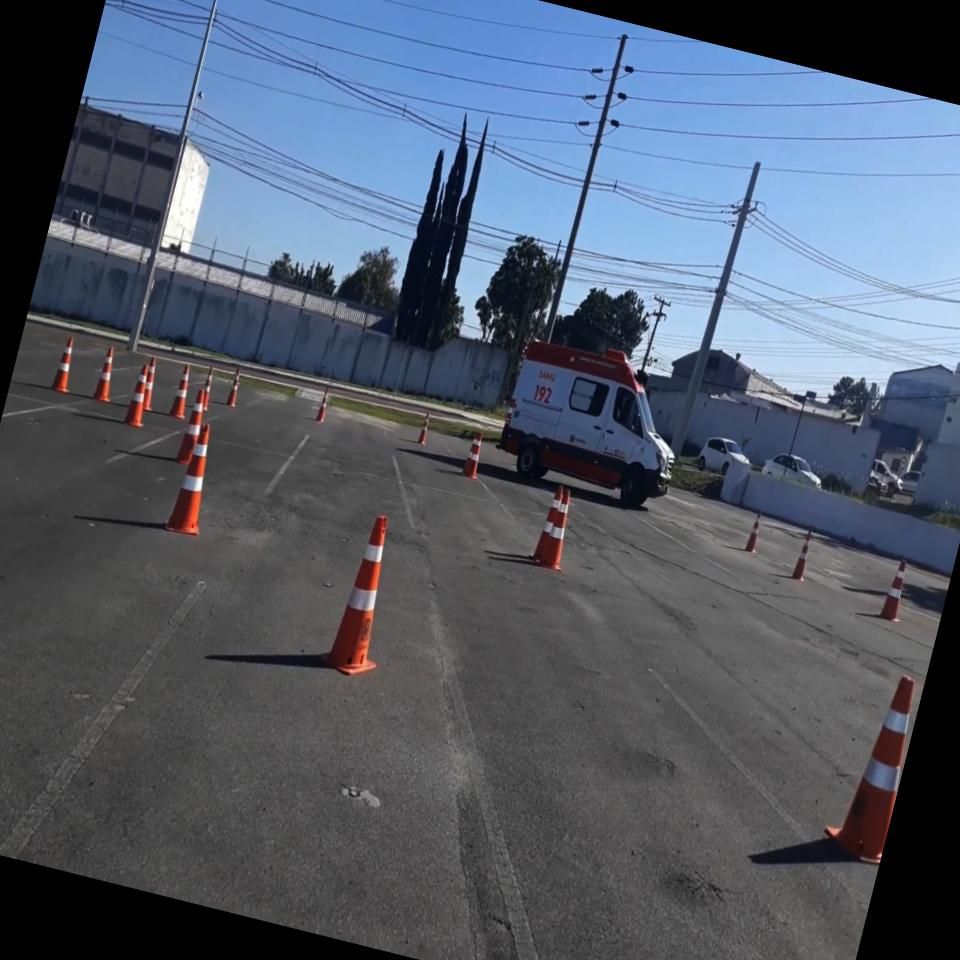bombeiro: (488, 322, 701, 520)
